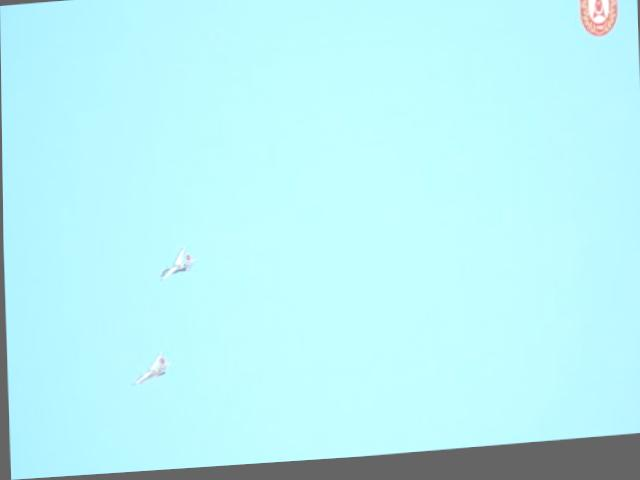uav: (128, 351, 174, 389), (153, 247, 193, 282)
